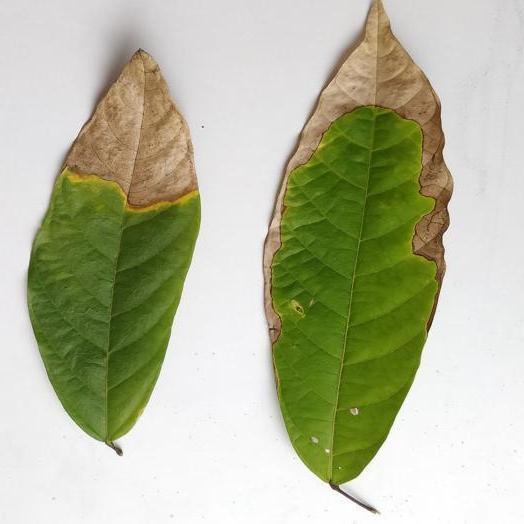Potassium: (265, 0, 451, 512), (28, 50, 200, 454)
